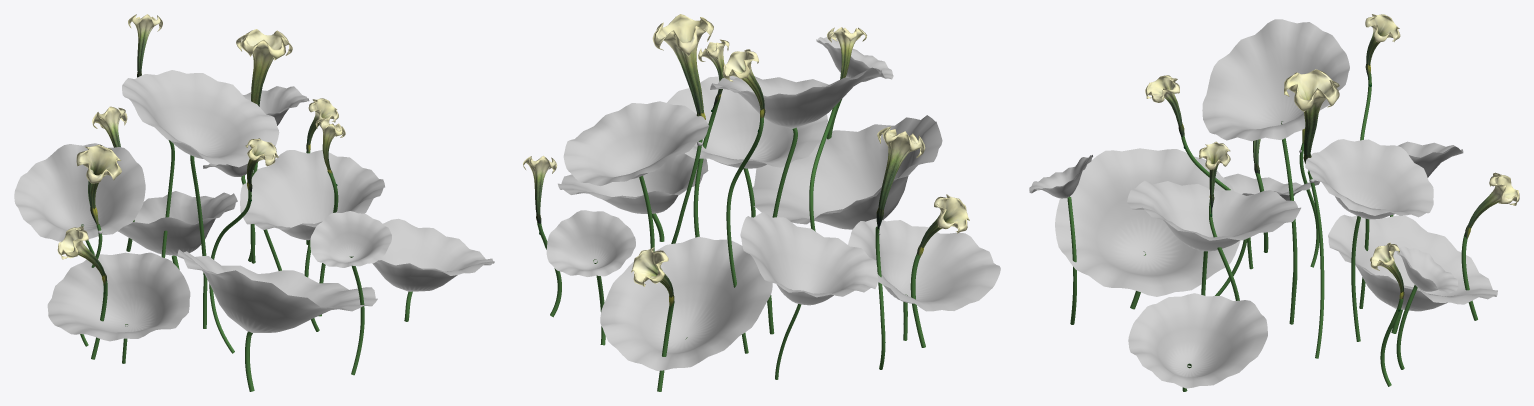
3 renders of one model, left to right at view 1: azimuth 30°, elevation 25°; view 2: azimuth 150°, elevation 25°; view 3: azimuth 270°, elevation 25°, orthographic. The views are drawn at different scales.
Parts seen in each view (by area): view 1: lily pad 1.026; view 2: lily pad 1.026; view 3: lily pad 1.026.
Boxes of the visible parts, bbox=[...] form: lily pad 1.026: bbox=[14, 14, 494, 391]; lily pad 1.026: bbox=[523, 14, 1000, 391]; lily pad 1.026: bbox=[1029, 14, 1519, 391].
Size of the model in its own units: 1647 by 1132 by 1680.
